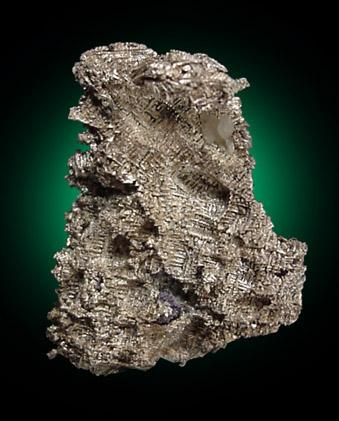silver: (47, 42, 308, 376)
